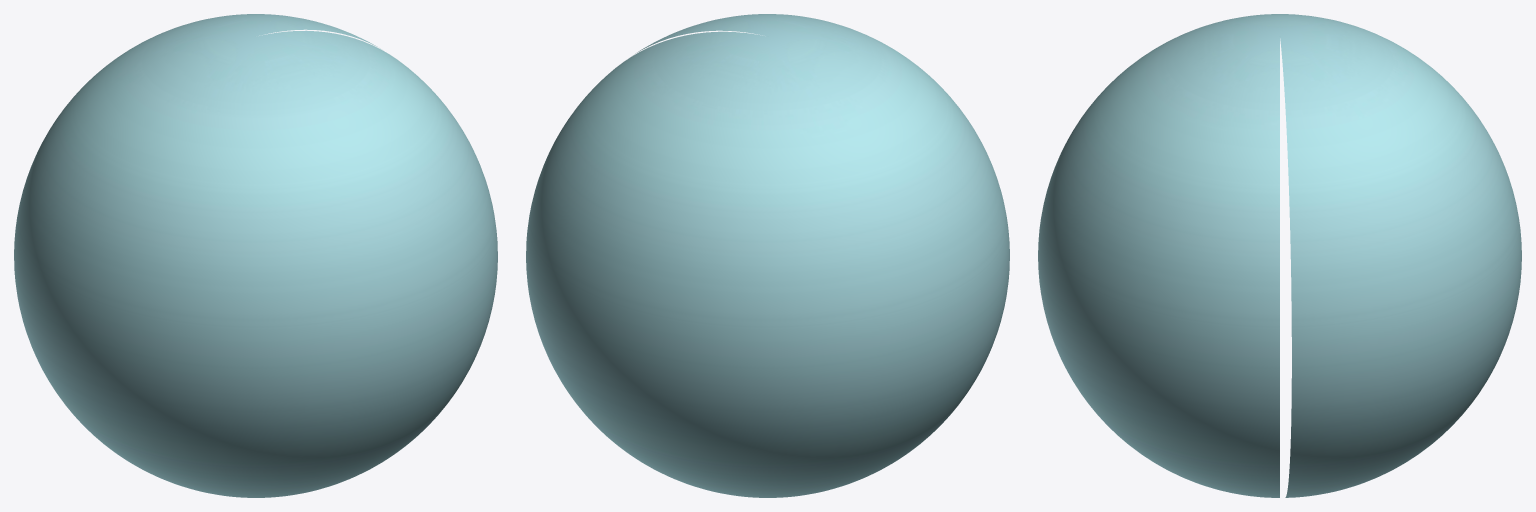
Rendered from uranus.glb.
3 renders of one model, left to right at view 1: azimuth 30°, elevation 25°; view 2: azimuth 150°, elevation 25°; view 3: azimuth 270°, elevation 25°, orthographic.
Parts seen in each view (by area): view 1: Uranus; view 2: Uranus; view 3: Uranus.
Boxes of the visible parts, x1,y1,x2,y2 form: Uranus: [14, 14, 497, 497]; Uranus: [526, 14, 1009, 497]; Uranus: [1038, 14, 1521, 497].
Size of the model in its own units: 2 by 2 by 2.
Materials: 1 (1 with a texture image).
